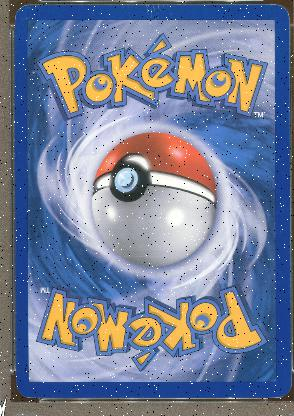Card: (11, 0, 291, 402)
Corner Wear: (266, 384, 290, 398), (14, 3, 41, 14)
Edge Wear: (15, 338, 16, 360)
Scratch: (143, 5, 175, 23), (268, 345, 272, 349), (74, 22, 77, 26), (24, 17, 27, 19)
